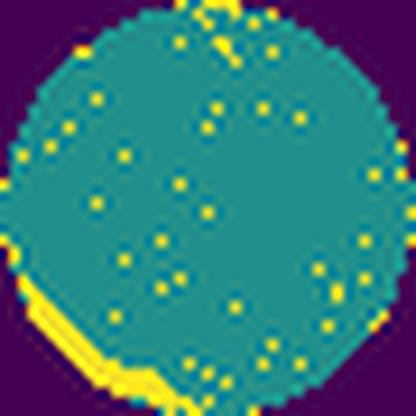Edge-Loc: (0, 236, 204, 416), (185, 0, 247, 18)
